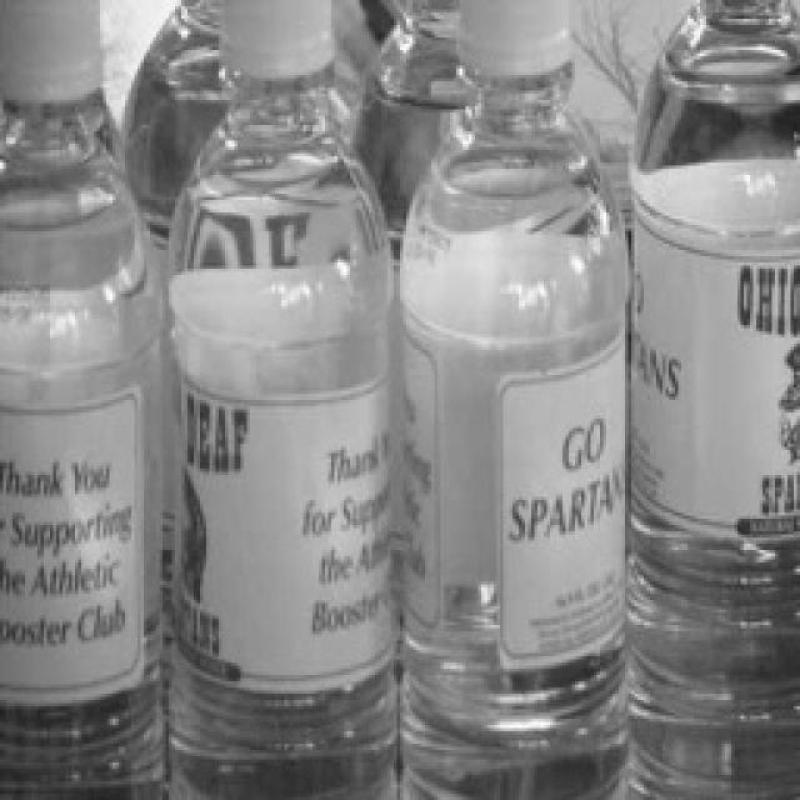botella: (392, 0, 630, 800), (172, 0, 400, 800), (631, 0, 800, 800), (0, 0, 165, 800), (120, 0, 229, 252), (350, 6, 460, 250)
